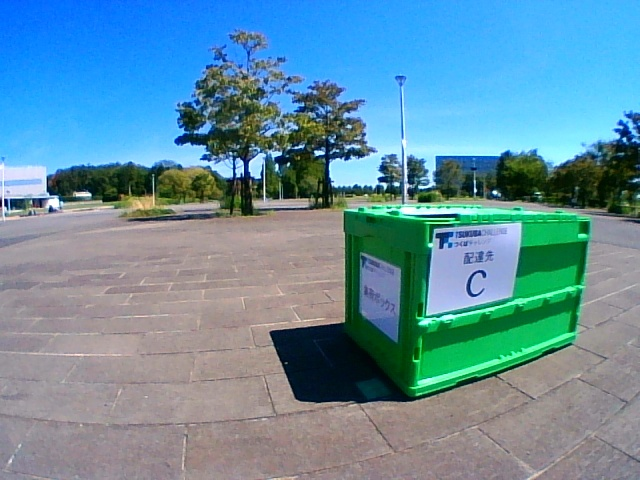green_box: (343, 205, 589, 397)
tag_c: (436, 228, 513, 298)
